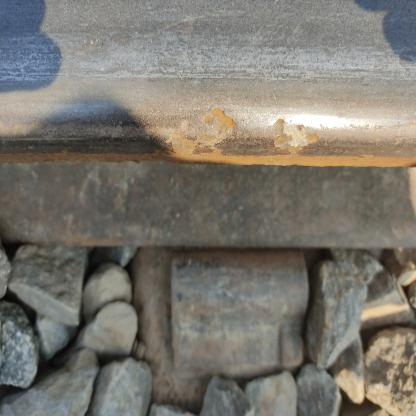Defective 1: (140, 201, 340, 416)
